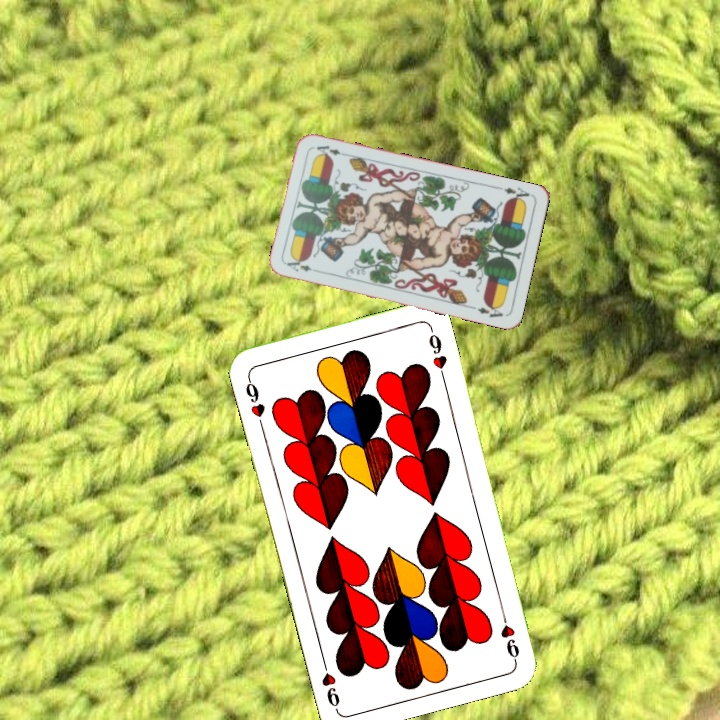EA: (494, 183, 534, 205), (283, 255, 314, 274)
H9: (241, 372, 268, 430), (496, 605, 522, 663)
